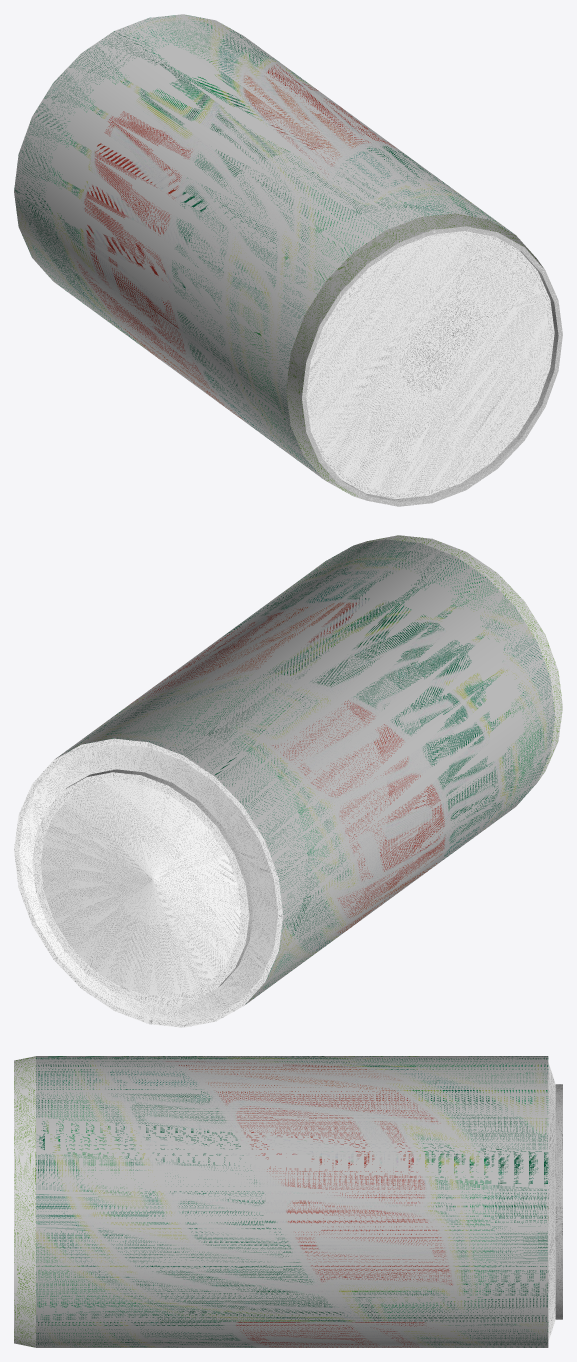
Rendered from model_scale.obj.
The picture shows the model from 3 angles, top to bottom: view 1: azimuth 30°, elevation 25°; view 2: azimuth 150°, elevation 25°; view 3: azimuth 270°, elevation 25°; orthographic projection. The views are drawn at different scales.
Parts seen in each view (by area): view 1: mesh1_mesh1-geometry; view 2: mesh1_mesh1-geometry; view 3: mesh1_mesh1-geometry.
Boxes of the visible parts, <box> form: mesh1_mesh1-geometry: <box>14,14,562,506</box>; mesh1_mesh1-geometry: <box>14,535,562,1027</box>; mesh1_mesh1-geometry: <box>14,1056,562,1347</box>.
Bounding box in the file's own units: 0.0713 × 0.0713 × 0.1337.
7 materials, 1 textured.
